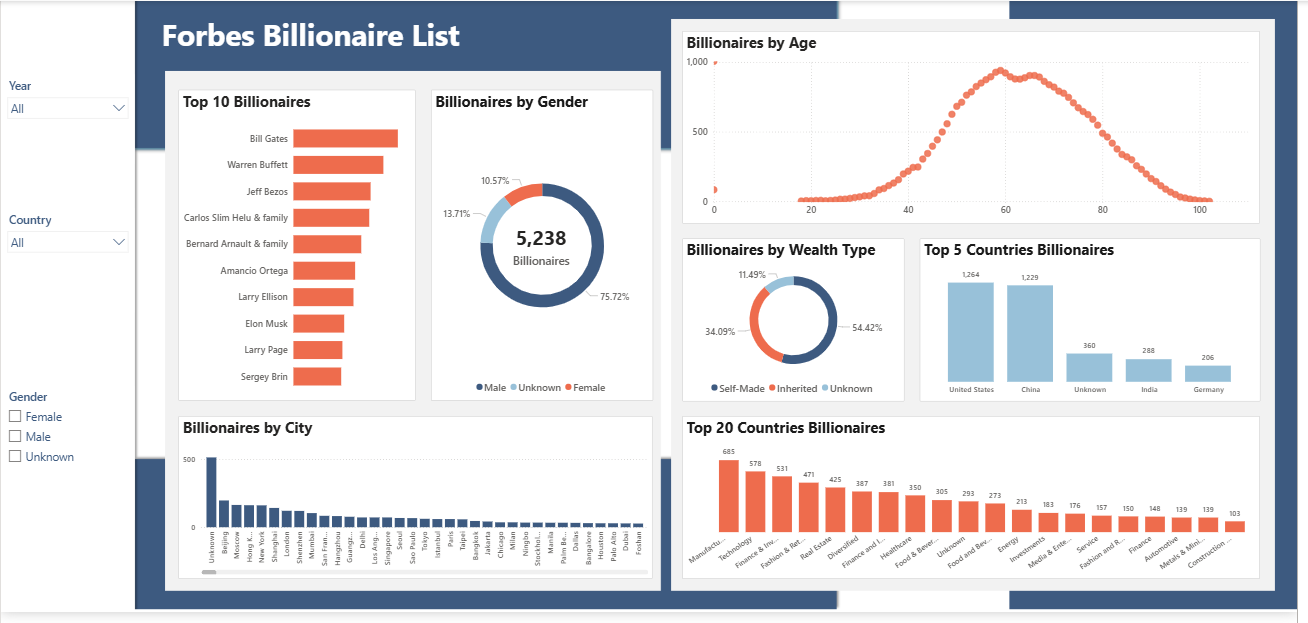

What the dashboard file says about the page in this screenshot:
{"tool":"powerbi","page":{"name":"Page 1","canvas":[2100,990],"ordinal":0},"visuals":[{"type":"textbox","box":[256,16,528,96],"z":0},{"type":"donutChart","title":"Billionaires by Gender","fields":{"Y":["_Measures.Total Billionaires"],"Category":["Billionaires.gender"]},"box":[696,144,360,504],"z":1},{"type":"card","fields":{"Values":["_Measures.Total Billionaires"]},"box":[744,264,264,264],"z":2},{"type":"scatterChart","title":"Billionaires by Age","fields":{"X":["Billionaires.age"],"Y":["_Measures.Total Billionaires"]},"box":[1104,48,936,312],"z":3},{"type":"donutChart","title":"Billionaires by Wealth Type","fields":{"Y":["_Measures.Total Billionaires"],"Category":["Billionaires.Wealth Type"]},"box":[1104,384,360,264],"z":4},{"type":"clusteredColumnChart","title":"Top 5 Countries Billionaires","fields":{"Category":["Billionaires.country_of_residence"],"Y":["_Measures.Total Billionaires"]},"box":[1488,384,552,264],"z":5},{"type":"clusteredColumnChart","title":"Top 20 Countries Billionaires","fields":{"Y":["_Measures.Total Billionaires"],"Category":["Billionaires.industry"]},"box":[1104,672,936,264],"z":6},{"type":"clusteredBarChart","title":"Top 10 Billionaires","fields":{"Category":["Billionaires.person_name"],"Y":["_Measures.Total NetWorth"]},"box":[288,144,384,504],"z":7},{"type":"clusteredColumnChart","title":"Billionaires by City","fields":{"Y":["_Measures.Total Billionaires"],"Category":["Billionaires.city_of_residence"]},"box":[288,672,768,264],"z":8},{"type":"slicer","fields":{"Values":["Billionaires.year"]},"box":[0,120,216,144],"z":9},{"type":"slicer","fields":{"Values":["Billionaires.country_of_residence"]},"box":[0,336,216,168],"z":10},{"type":"slicer","fields":{"Values":["Billionaires.gender"]},"box":[0,624,216,216],"z":11}]}

Visuals, with their boxes in screenshot pixels (x1, y1, x2, y2), scaled from the page's 2100x990 canvas onto the 1308x623 screenshot:
textbox: Rect(159, 10, 488, 70)
"Billionaires by Gender" donutChart: Rect(434, 91, 658, 408)
card - _Measures.Total Billionaires: Rect(463, 166, 628, 332)
"Billionaires by Age" scatterChart: Rect(688, 30, 1271, 227)
"Billionaires by Wealth Type" donutChart: Rect(688, 242, 912, 408)
"Top 5 Countries Billionaires" clusteredColumnChart: Rect(927, 242, 1271, 408)
"Top 20 Countries Billionaires" clusteredColumnChart: Rect(688, 423, 1271, 589)
"Top 10 Billionaires" clusteredBarChart: Rect(179, 91, 419, 408)
"Billionaires by City" clusteredColumnChart: Rect(179, 423, 658, 589)
slicer - Billionaires.year: Rect(0, 76, 135, 166)
slicer - Billionaires.country_of_residence: Rect(0, 211, 135, 317)
slicer - Billionaires.gender: Rect(0, 393, 135, 529)
